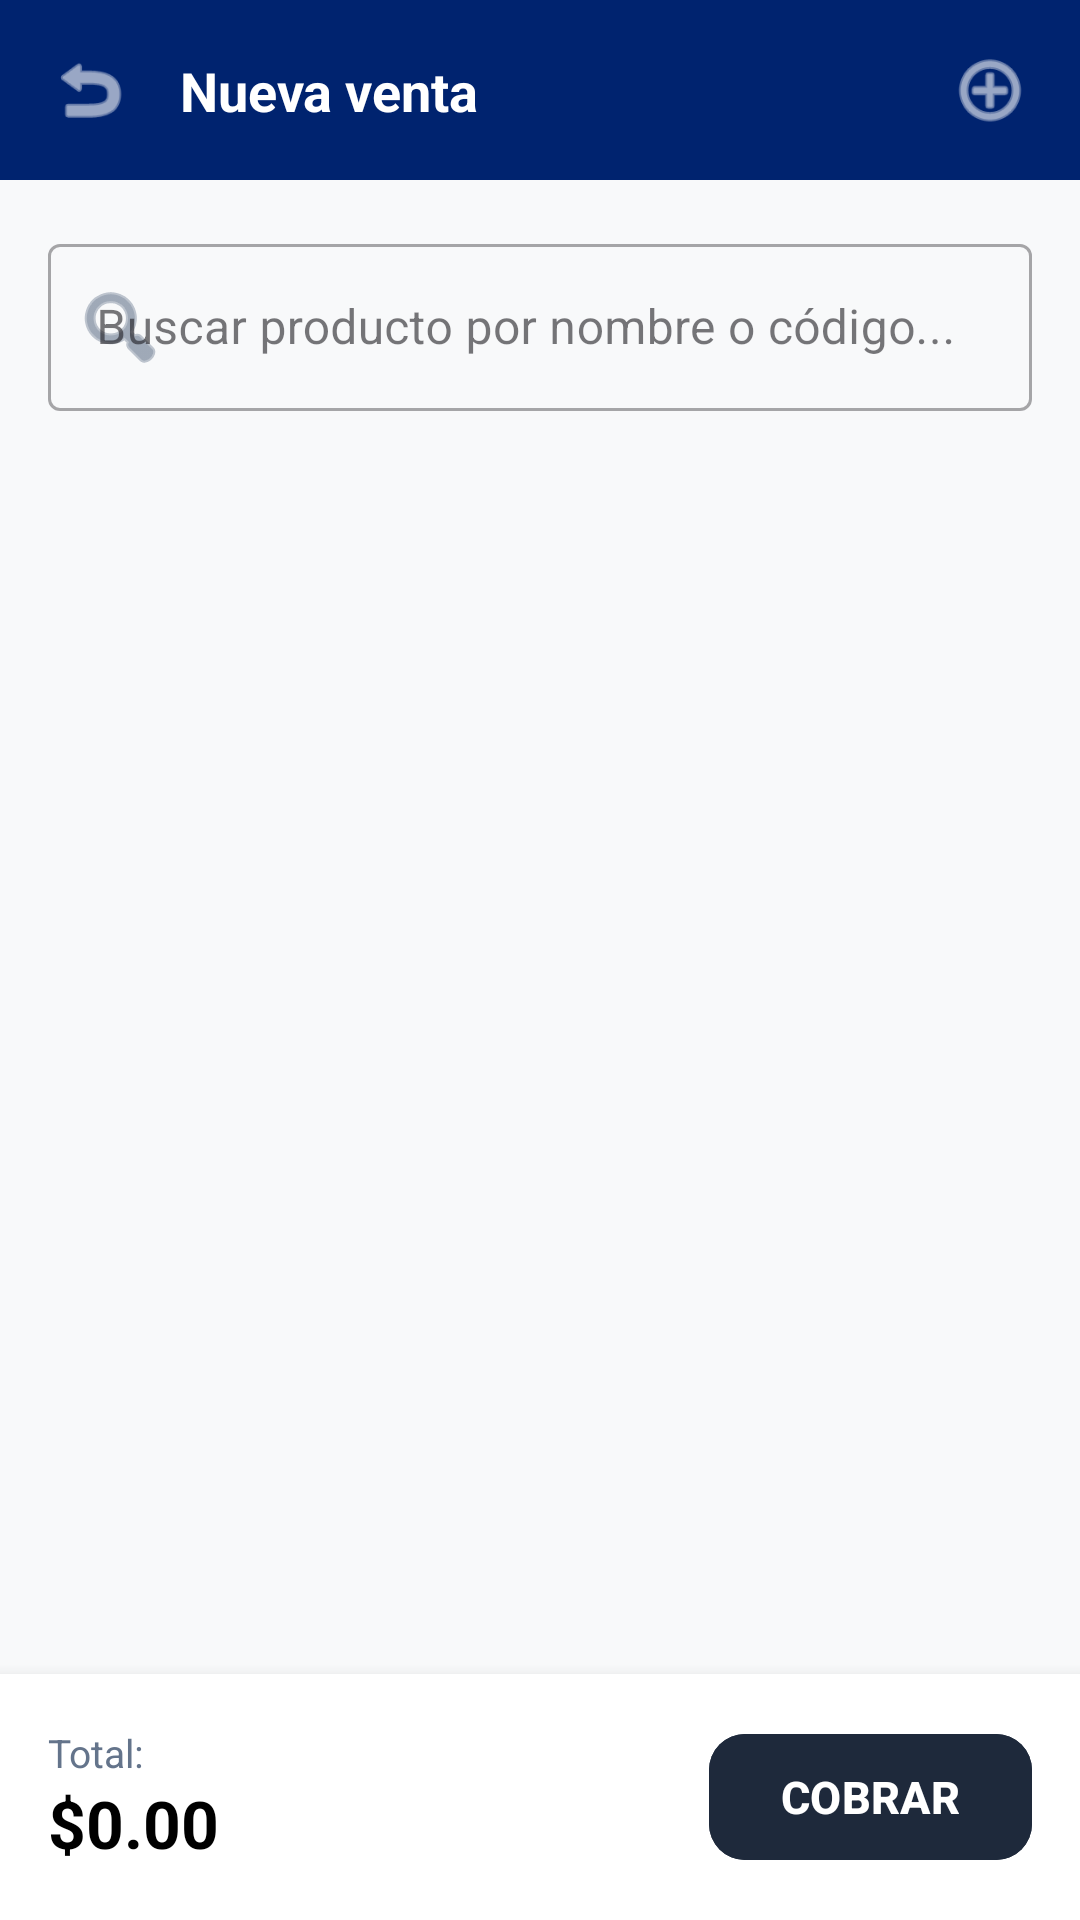

Icon click points for this 1080w x 1920h phone screenshot, format (x=x, y=y):
Atrás: (x=91, y=90)
